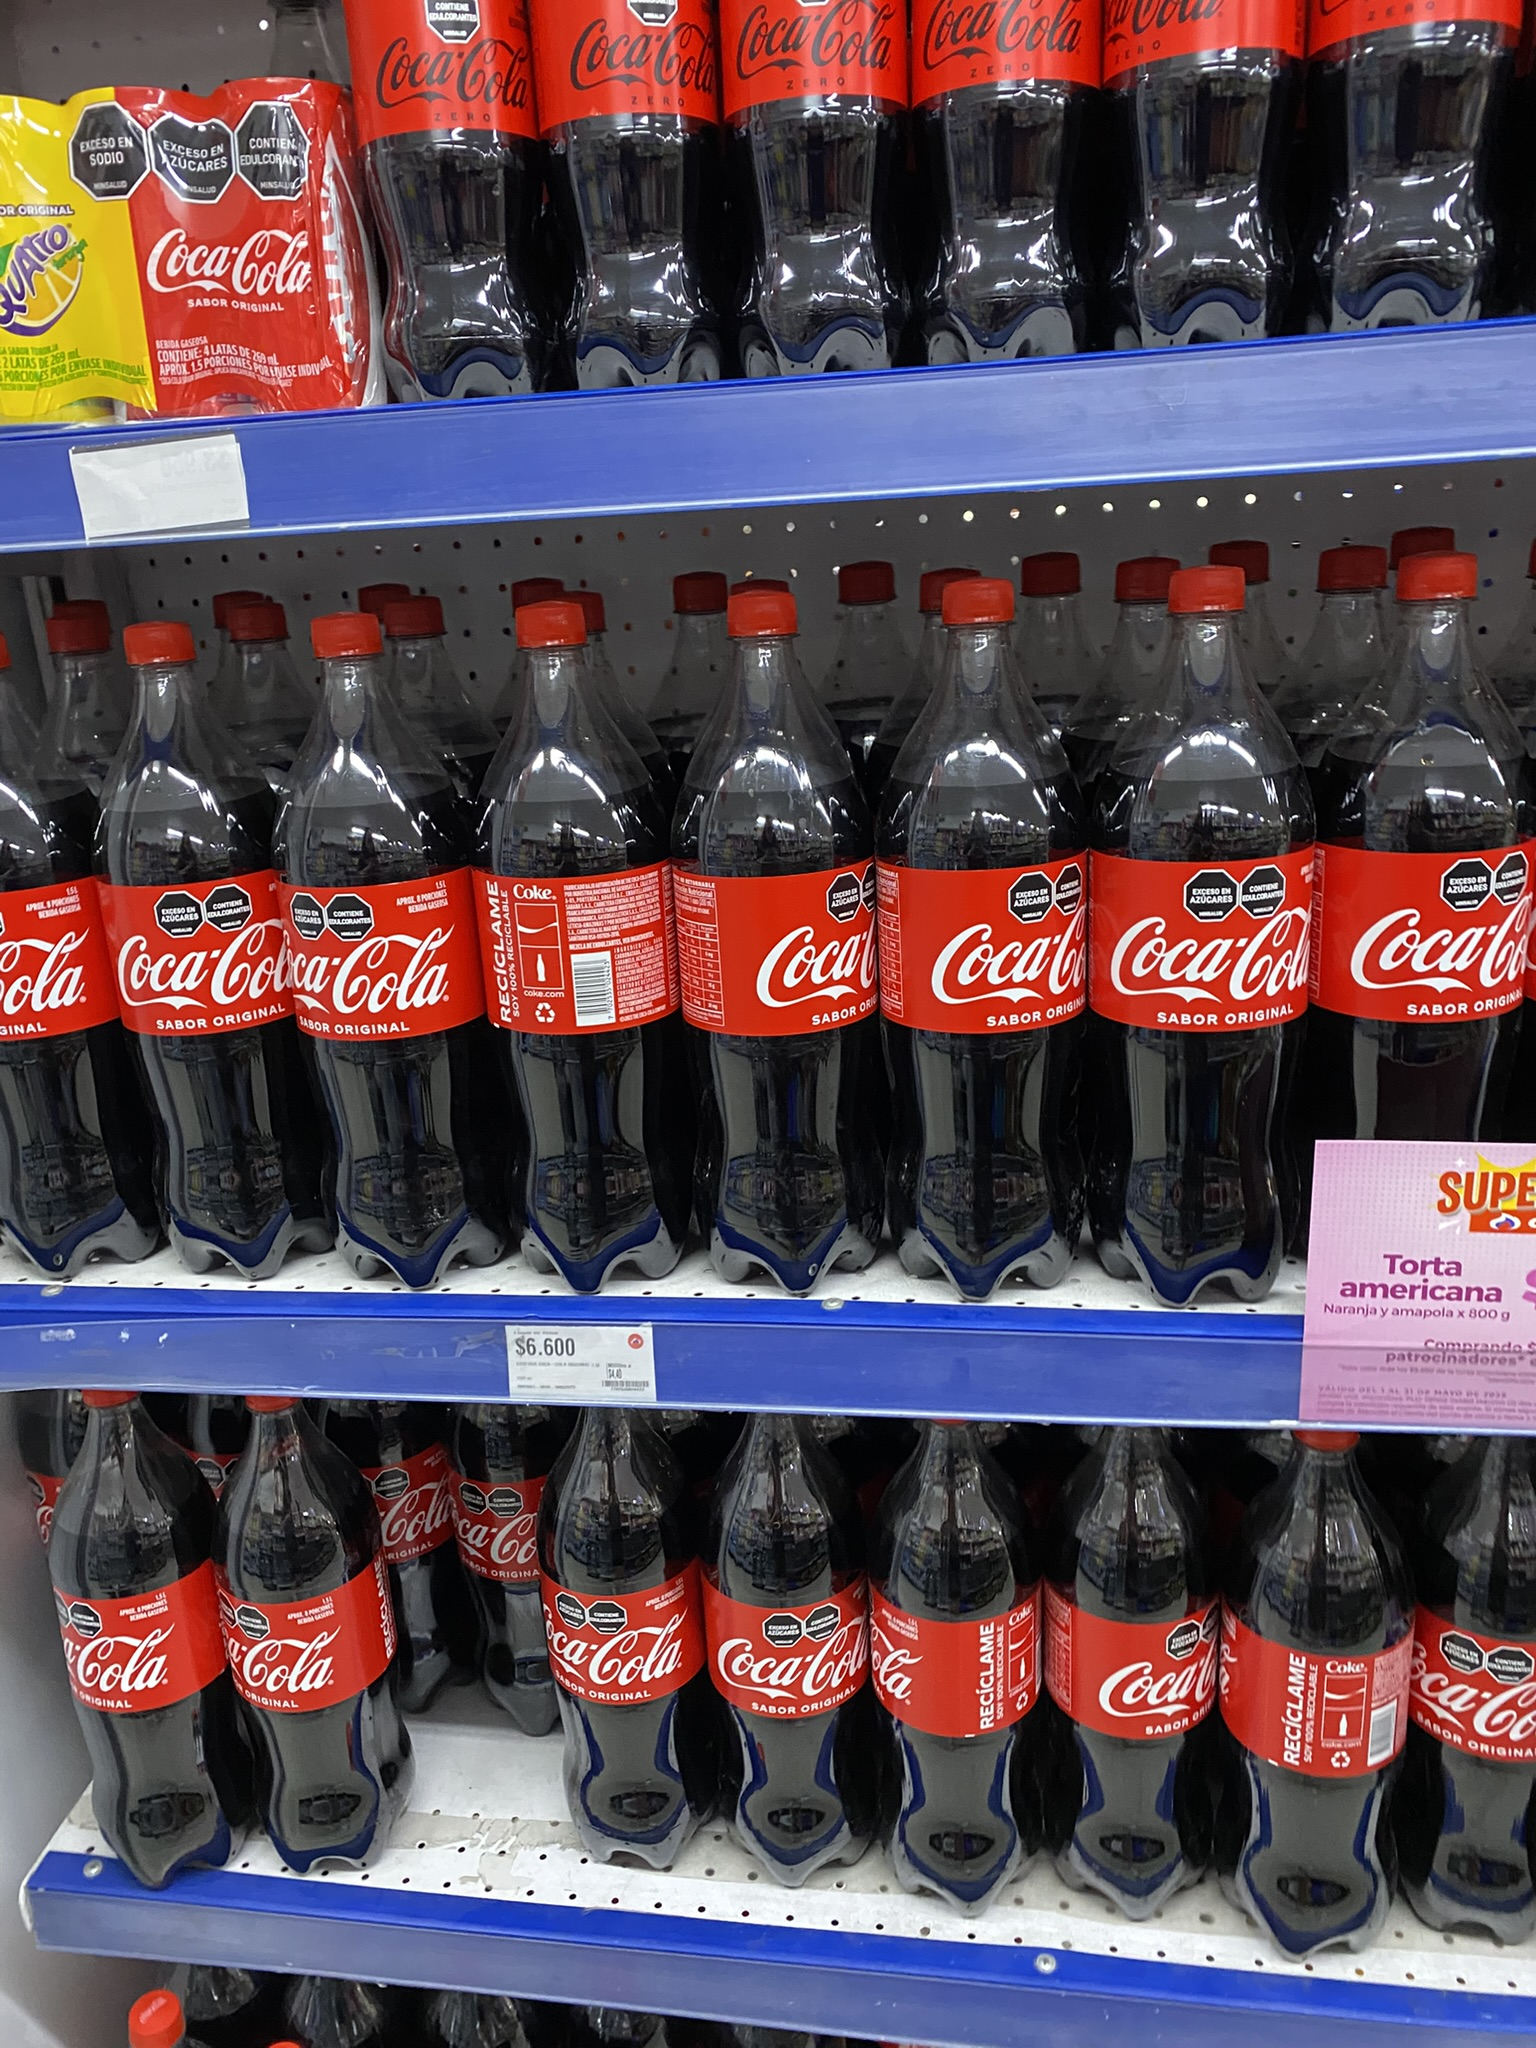Coca Cola: (1275, 560, 1536, 1269), (879, 569, 1110, 1303), (1089, 564, 1309, 1287), (281, 606, 508, 1285), (95, 614, 321, 1266), (676, 593, 883, 1295), (478, 590, 673, 1266), (1239, 1426, 1425, 1953), (227, 1397, 397, 1903), (48, 1393, 223, 1884), (1062, 1429, 1229, 1911), (0, 668, 129, 1274), (884, 1442, 1041, 1903), (549, 1409, 702, 1867), (713, 1421, 863, 1888), (1425, 1430, 1531, 1958)
